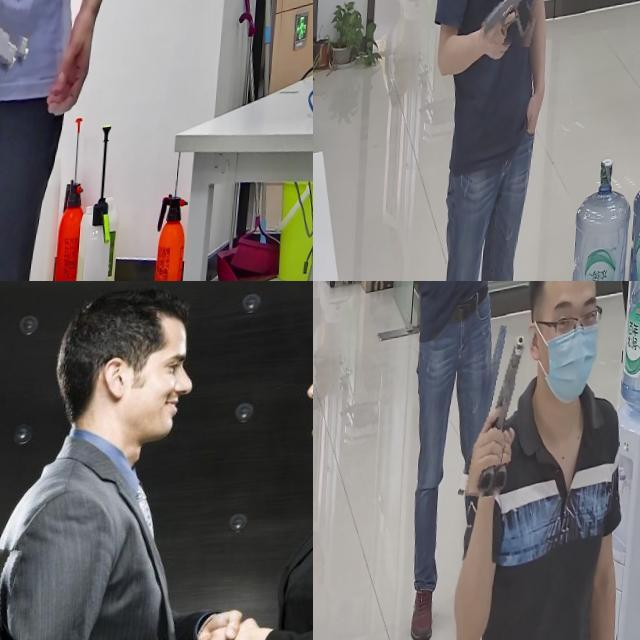-: (0, 541, 50, 640)
gun-knife-thesis - v11 Yolov5 augmented: (471, 332, 532, 508), (0, 0, 62, 86), (484, 0, 549, 56)
